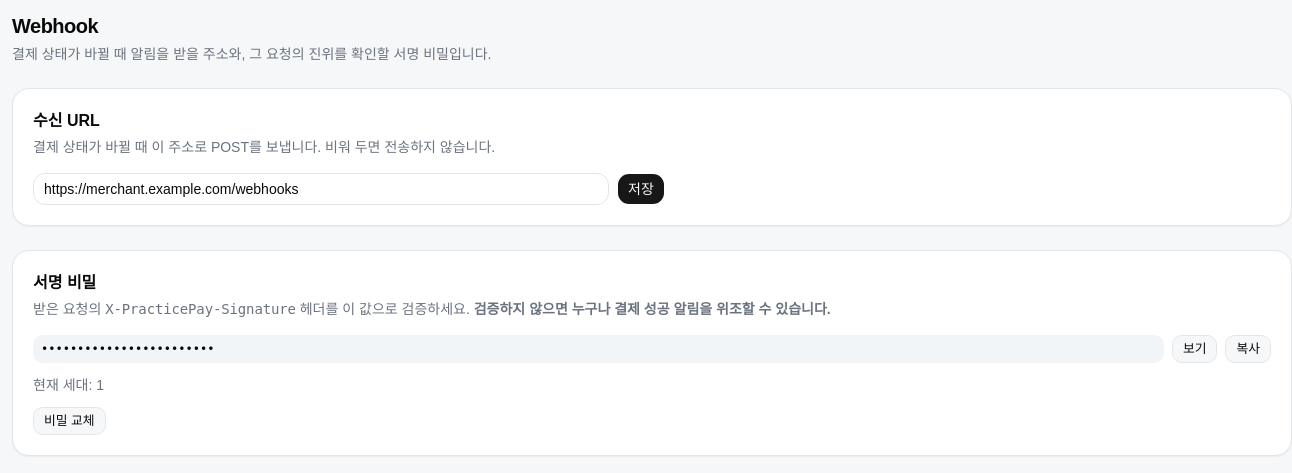
Test case: WebhookPage › 가려진 서명 비밀을 "보기"로 드러낸다
expect the text with test id "signing-secret" does not show "whsec_AbCdEfGhIjKlMnOpQrStUvWxYz": met, box x1=33 y1=335 x2=1164 y2=363
Click the button "보기": {"x": 1195, "y": 349} x1=1172 y1=335 x2=1217 y2=363
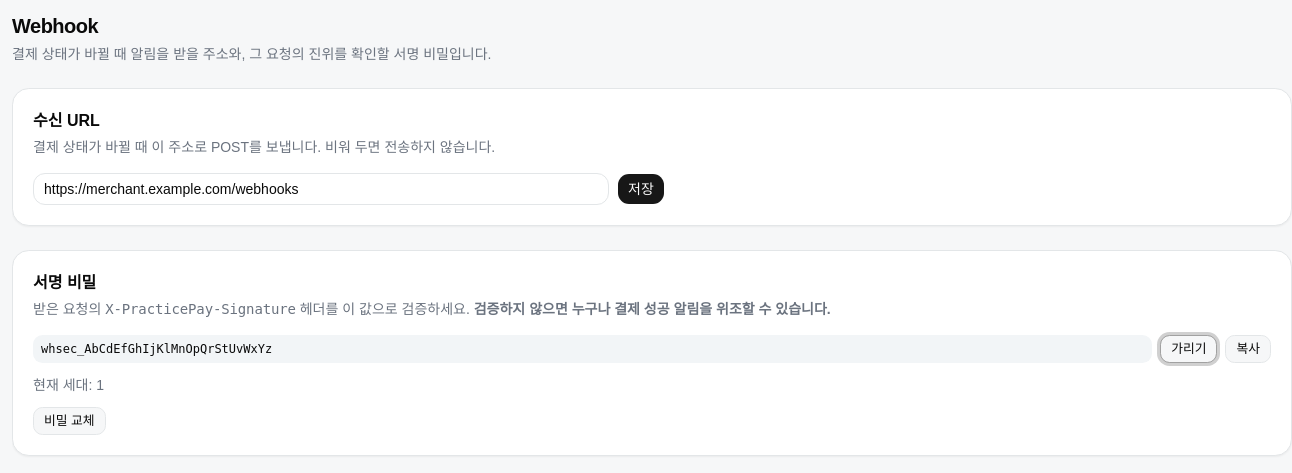
expect the text with test id "signing-secret" reads "whsec_AbCdEfGhIjKlMnOpQrStUvWxYz": met, box x1=41 y1=342 x2=272 y2=356
